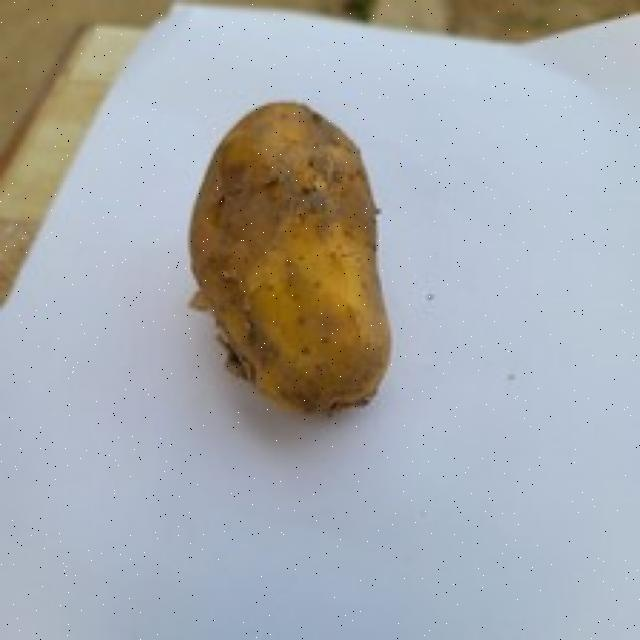Potato: (134, 75, 424, 457)
